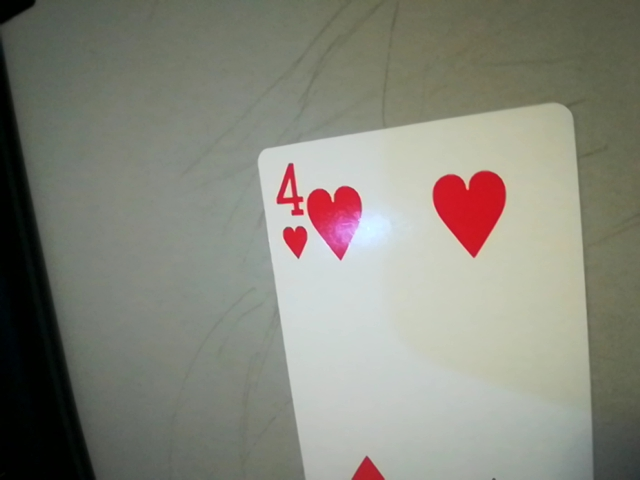hx 4: (265, 155, 329, 271)
